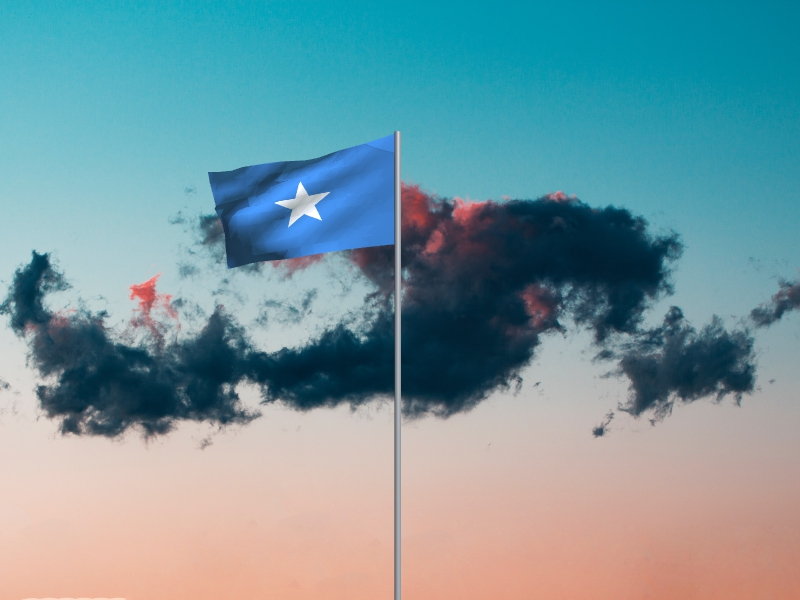so: (207, 134, 395, 270)
